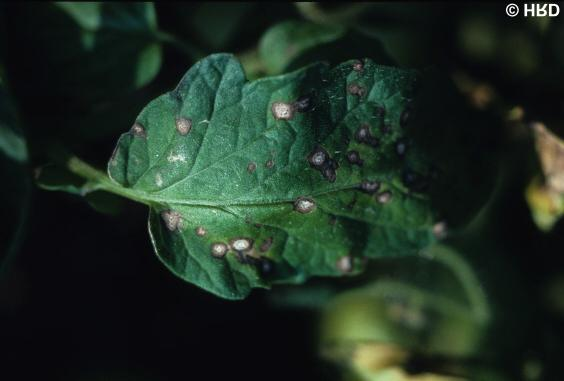Tomato Septoria leaf spot: (65, 31, 523, 299)
